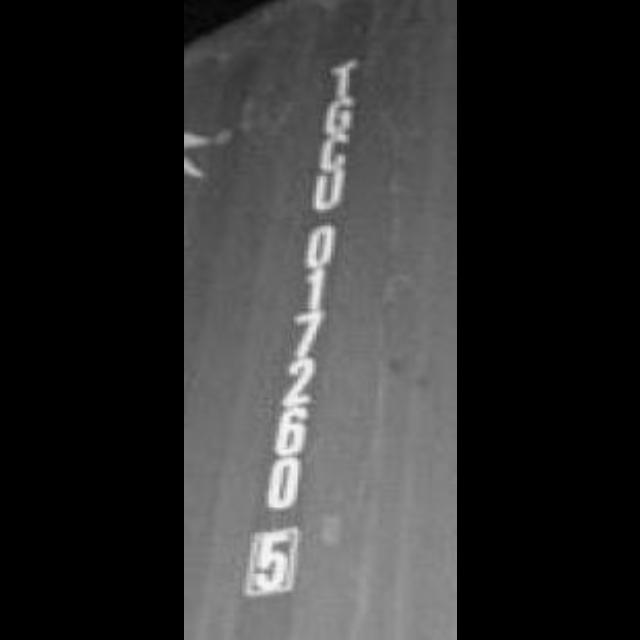0: (260, 452, 302, 512), (297, 216, 339, 274)
1: (289, 262, 337, 314)
2: (271, 353, 325, 411)
5: (240, 528, 296, 592)
6: (266, 398, 312, 462)
7: (280, 308, 330, 360)
g: (310, 128, 354, 176), (322, 89, 354, 137)
t: (310, 40, 370, 94)
u: (304, 164, 350, 216)
